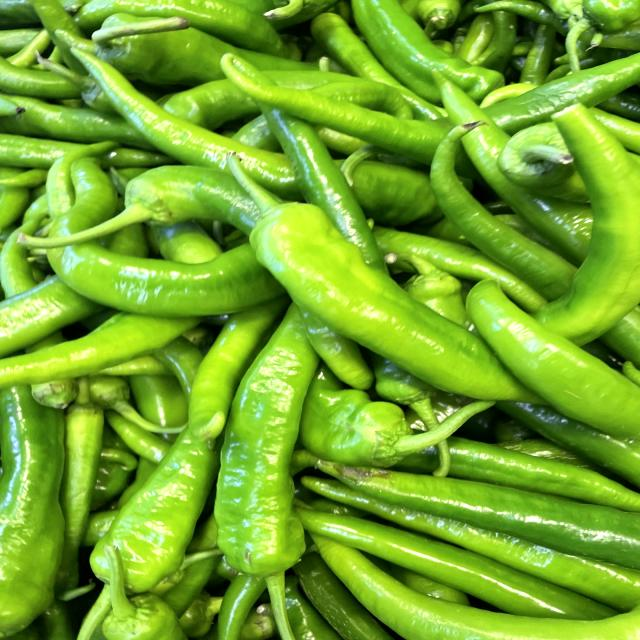green pepper: (205, 293, 364, 640)
